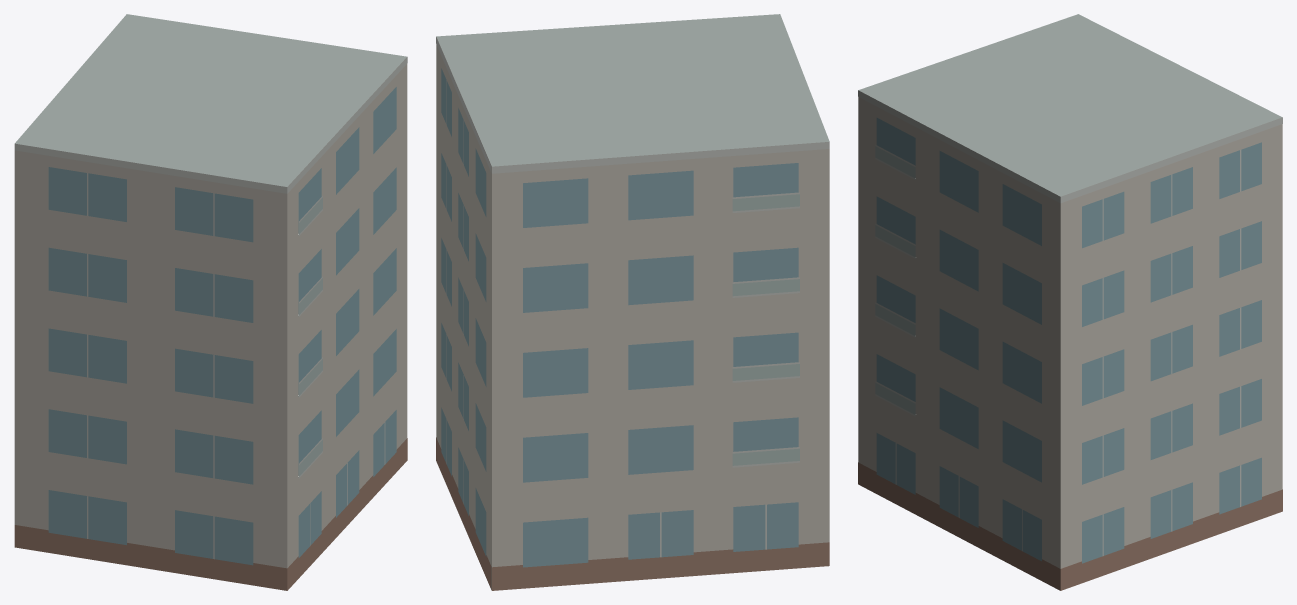
Rendered from survey-upis-32844844.glb.
3 views of the same model, side by side, from view 1: azimuth 30°, elevation 25°; view 2: azimuth 150°, elevation 25°; view 3: azimuth 270°, elevation 25° (orthographic). The views are drawn at different scales.
Visible parts, largest first — view 1: survey-upis-32844844.tmp; view 2: survey-upis-32844844.tmp; view 3: survey-upis-32844844.tmp.
Boxes of the visible parts, x1=… form: survey-upis-32844844.tmp: x1=14, y1=14, x2=407, y2=590; survey-upis-32844844.tmp: x1=436, y1=14, x2=829, y2=590; survey-upis-32844844.tmp: x1=858, y1=14, x2=1282, y2=590.
Size of the model in its own units: 14.48 by 14.55 by 14.21.
